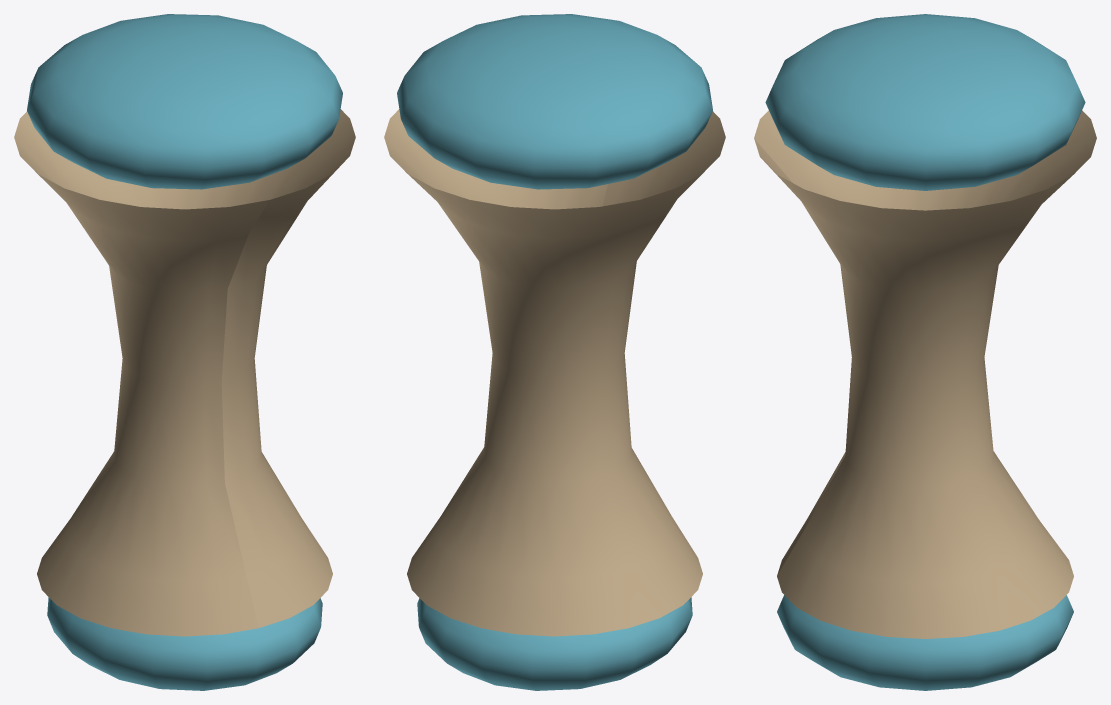
The model's file is left_toe_1_proximal.glb.
3 views of the same model, side by side, from view 1: azimuth 30°, elevation 25°; view 2: azimuth 150°, elevation 25°; view 3: azimuth 270°, elevation 25° (orthographic).
Visible parts, largest first — view 1: left_toe_1_proximal:diaphysis, left_toe_1_proximal:proximal-envelope, left_toe_1_proximal:distal-envelope; view 2: left_toe_1_proximal:diaphysis, left_toe_1_proximal:proximal-envelope, left_toe_1_proximal:distal-envelope; view 3: left_toe_1_proximal:diaphysis, left_toe_1_proximal:proximal-envelope, left_toe_1_proximal:distal-envelope.
Boxes of the visible parts, x1=… form: left_toe_1_proximal:diaphysis: x1=14, y1=109, x2=355, y2=636; left_toe_1_proximal:proximal-envelope: x1=27, y1=14, x2=342, y2=189; left_toe_1_proximal:distal-envelope: x1=47, y1=597, x2=322, y2=690; left_toe_1_proximal:diaphysis: x1=384, y1=109, x2=725, y2=636; left_toe_1_proximal:proximal-envelope: x1=397, y1=14, x2=712, y2=189; left_toe_1_proximal:distal-envelope: x1=417, y1=597, x2=692, y2=690; left_toe_1_proximal:diaphysis: x1=754, y1=110, x2=1096, y2=638; left_toe_1_proximal:proximal-envelope: x1=765, y1=14, x2=1085, y2=190; left_toe_1_proximal:distal-envelope: x1=777, y1=595, x2=1073, y2=690.
Size of the model in its own units: 0.0387 by 0.0774 by 0.0387.
